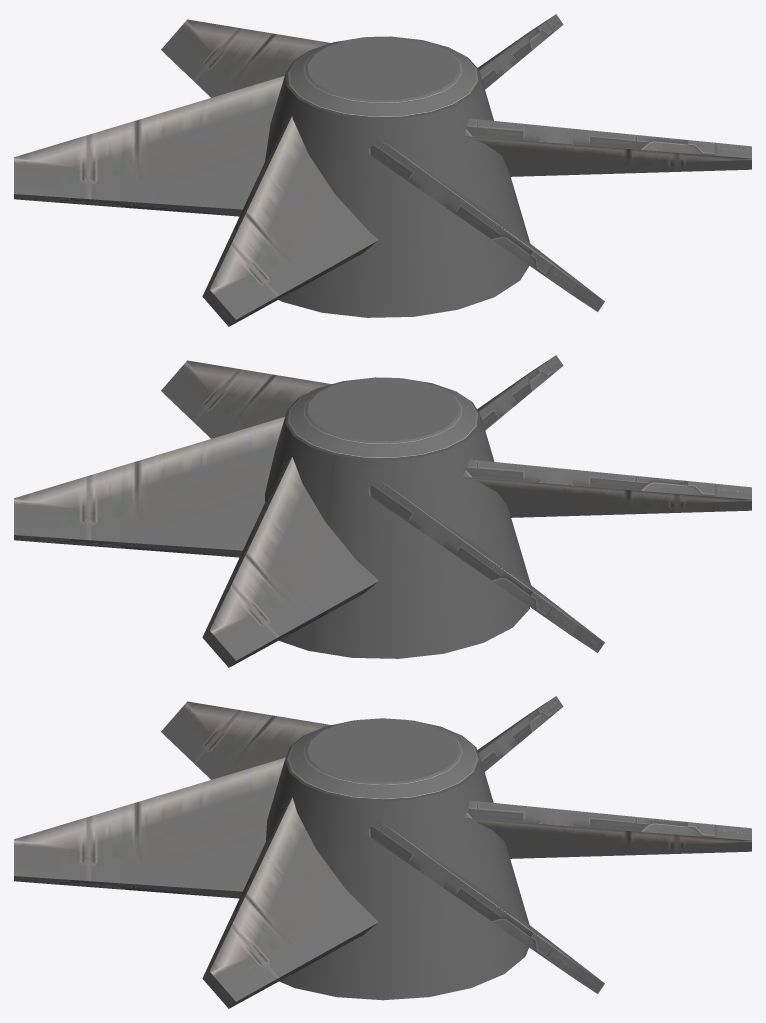
File: Fan Small Propeller.glb
3 renders of one model, top to bottom at view 1: azimuth 30°, elevation 25°; view 2: azimuth 150°, elevation 25°; view 3: azimuth 270°, elevation 25°, orthographic.
Visible parts, largest first — view 1: Prop_Fan_Small_Propeller; view 2: Prop_Fan_Small_Propeller; view 3: Prop_Fan_Small_Propeller.
Part boxes in pixels (bbox=[...]): Prop_Fan_Small_Propeller: bbox=[14, 14, 751, 326]; Prop_Fan_Small_Propeller: bbox=[14, 355, 751, 667]; Prop_Fan_Small_Propeller: bbox=[14, 696, 751, 1008].
Size of the model in its own units: 1.06 by 0.3203 by 1.15.
Materials: 2 (2 with a texture image).
